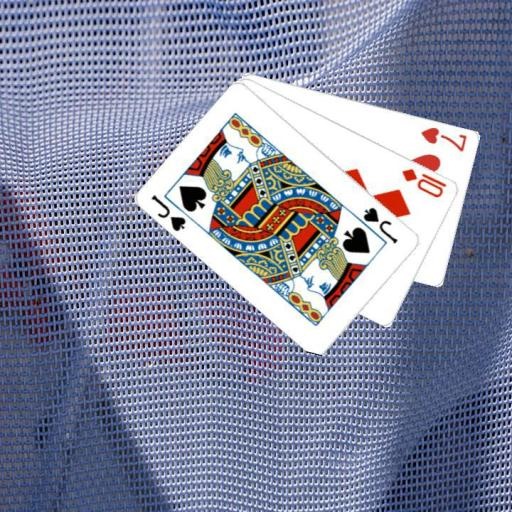10D: (399, 165, 449, 199)
7H: (418, 124, 469, 153)
JS: (360, 204, 400, 246), (148, 192, 188, 234)
